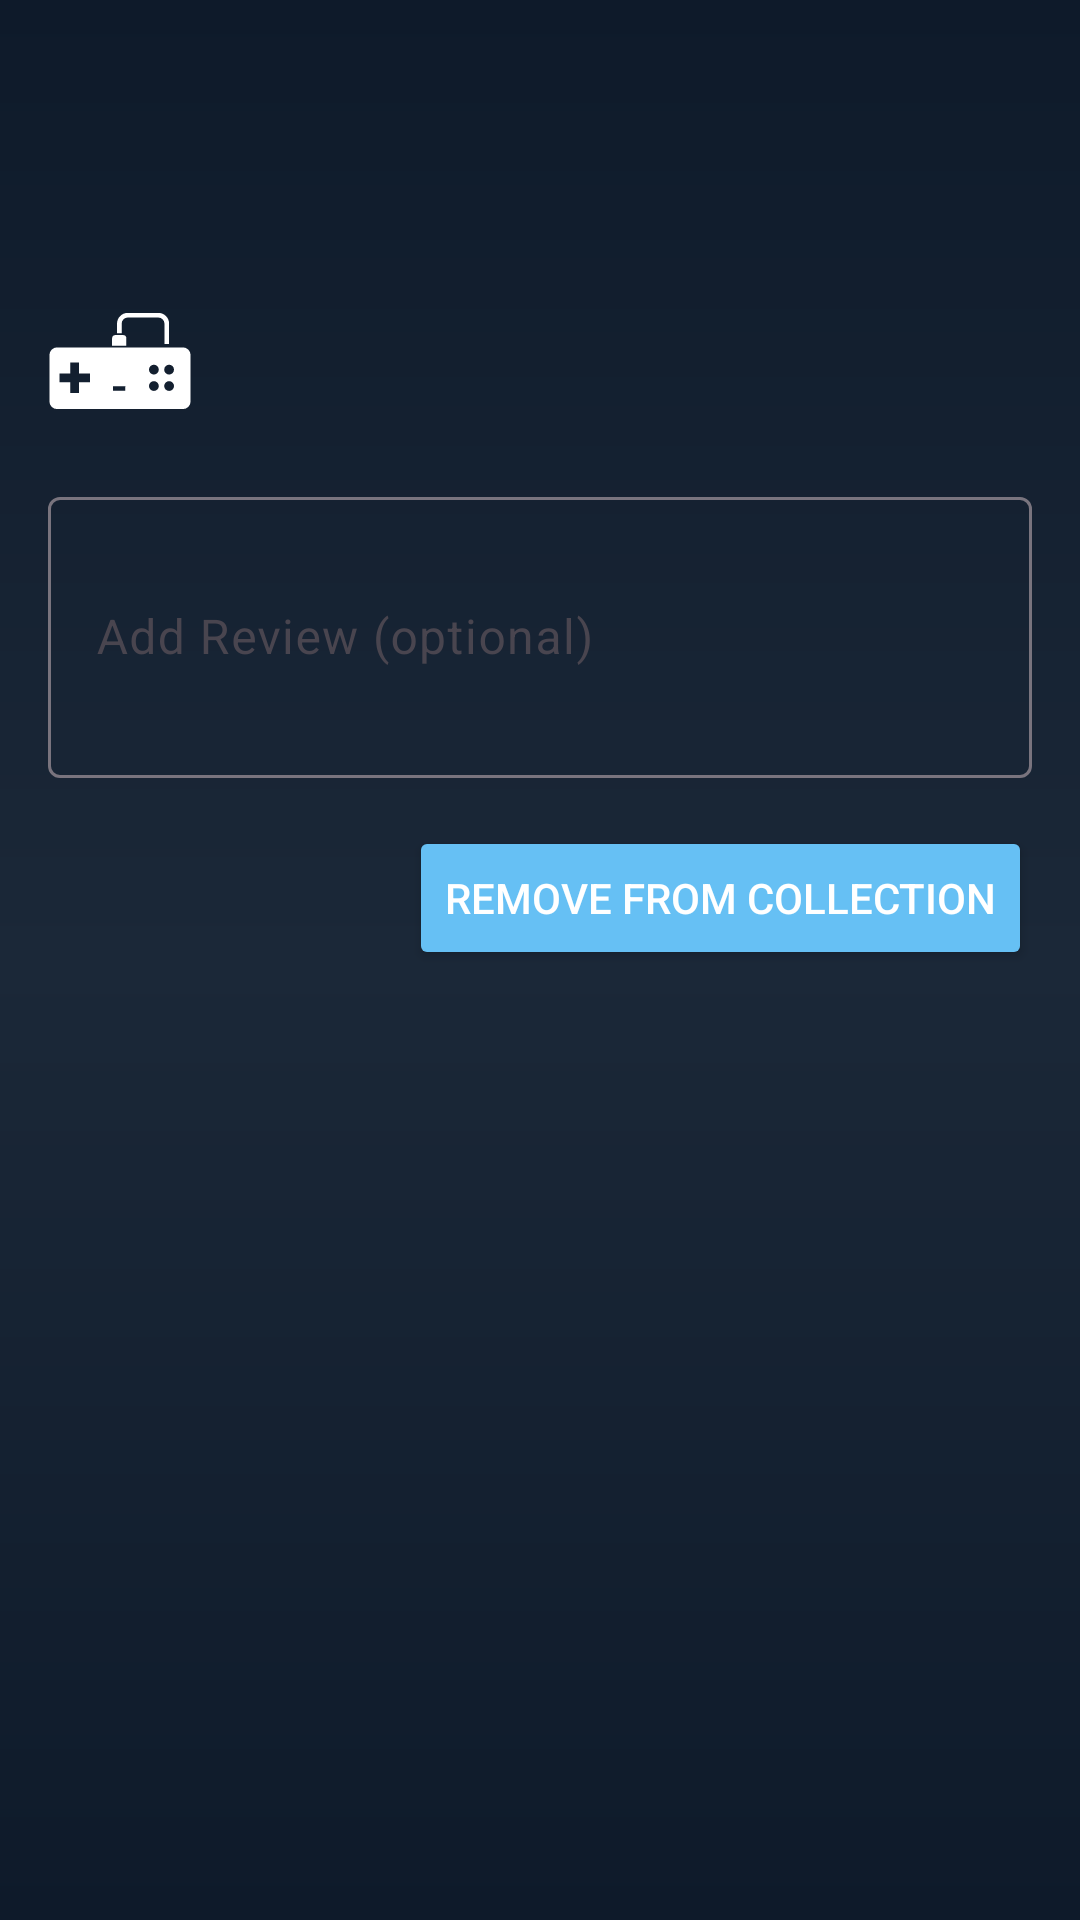

Where to tap for icons on this 1080×1920 app screen, as (x,y):
controller symbol: (120,361)
